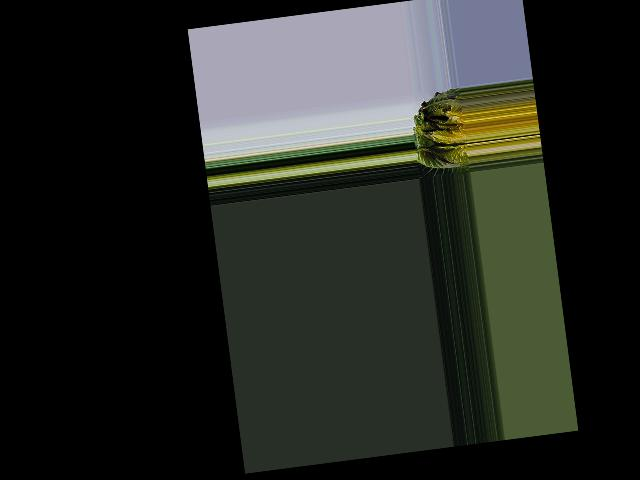lettuce: (410, 90, 471, 178)
